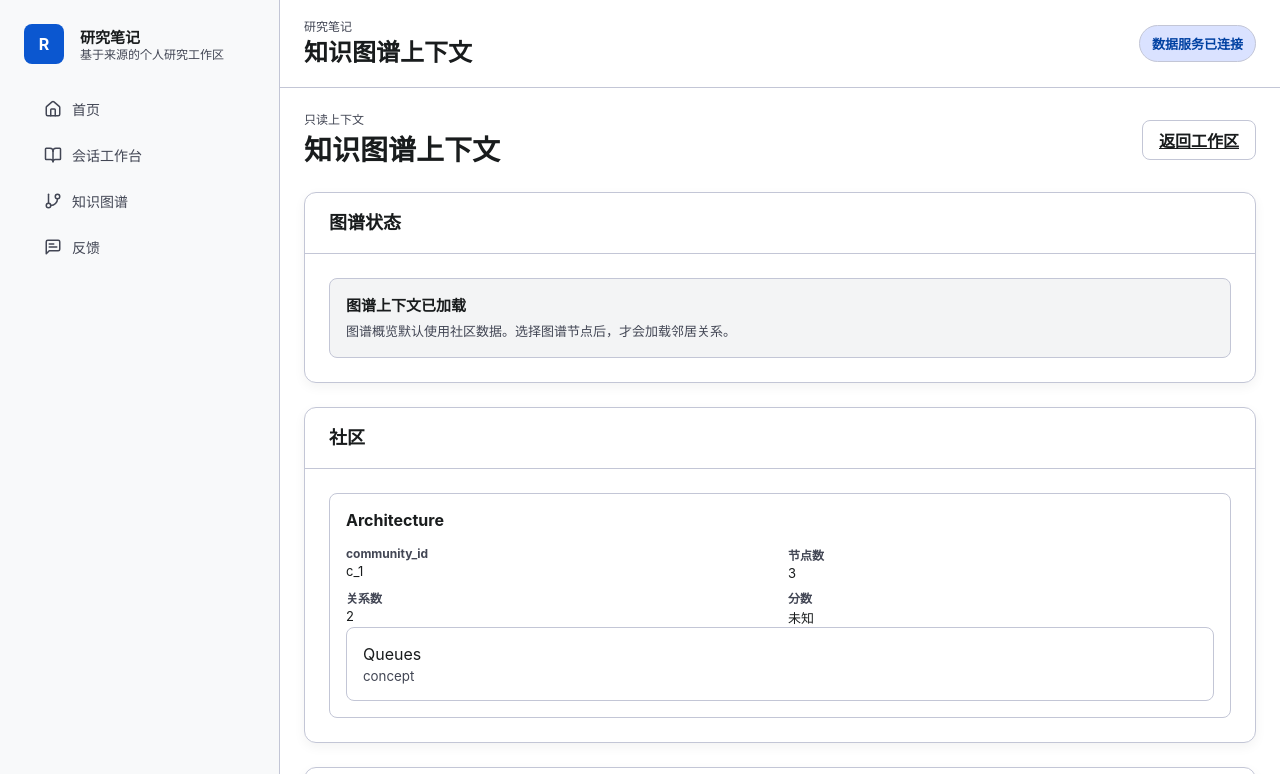
Test case: 图谱上下文 smoke › renders read-only communities and node-scoped neighbors
Expected: the heading "Architecture" is shown, [346, 510, 444, 530]
Click the button "Queues concept".
click(392, 654)  # box [346, 627, 1214, 701]
(page scrolled)
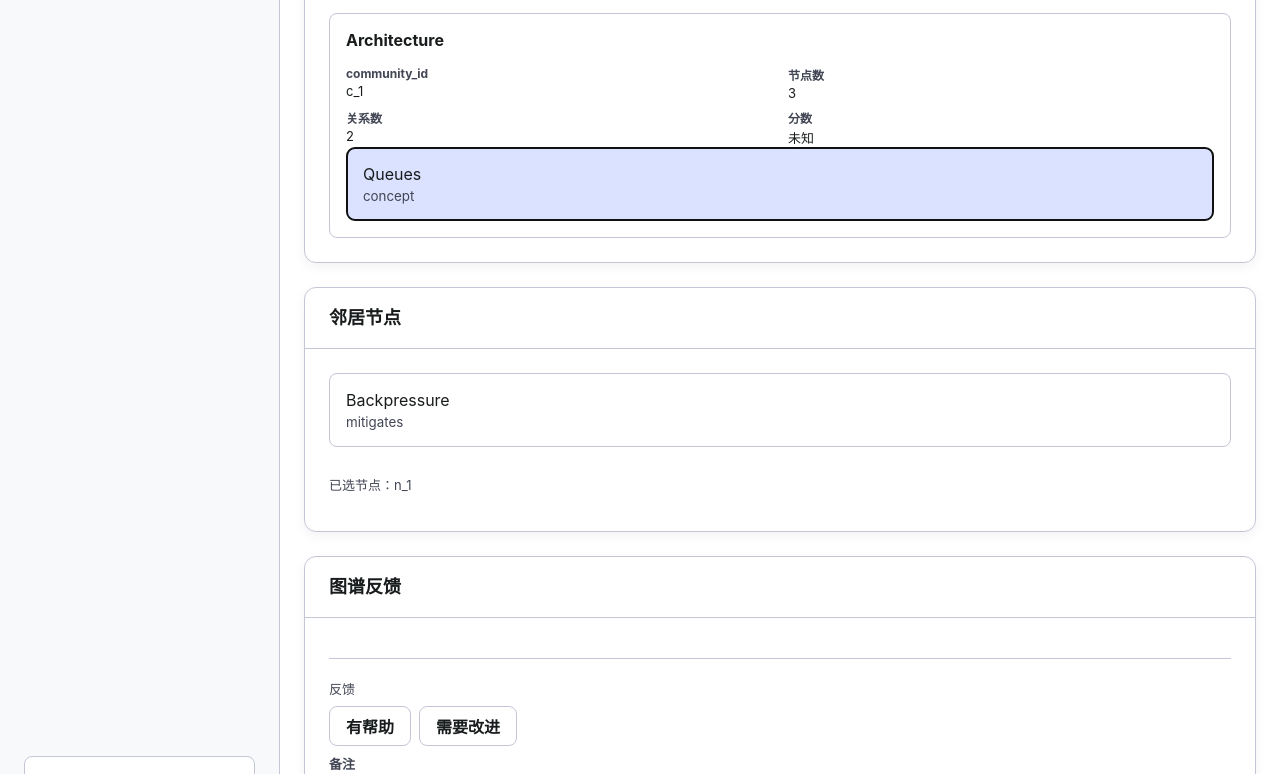
Expected: the text "Backpressure" is shown, [346, 390, 450, 410]
